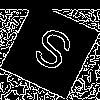S: (25, 25, 76, 82)
